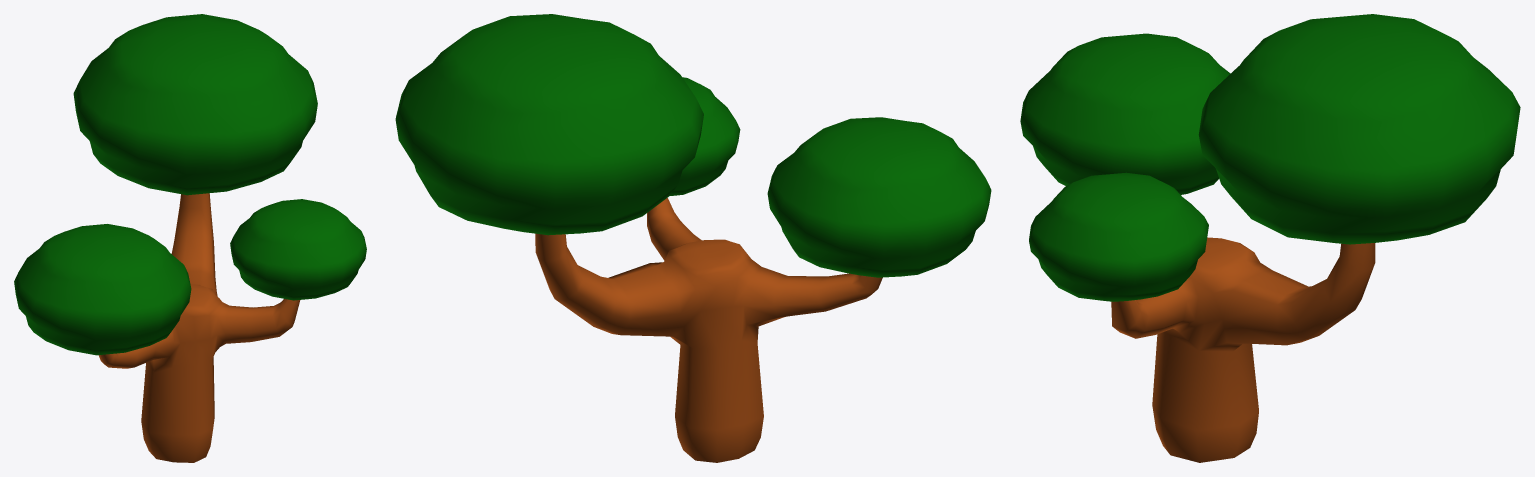
File: SM_Tree_P_1.fbx
3 views of the same model, side by side, from view 1: azimuth 30°, elevation 25°; view 2: azimuth 150°, elevation 25°; view 3: azimuth 270°, elevation 25° (orthographic). The views are drawn at different scales.
Parts seen in each view (by area): view 1: SM_Tree_P_1; view 2: SM_Tree_P_1; view 3: SM_Tree_P_1.
Part boxes in pixels (<box>): SM_Tree_P_1: <box>14,14,366,462</box>; SM_Tree_P_1: <box>395,14,991,462</box>; SM_Tree_P_1: <box>1020,14,1520,462</box>.
Size of the model in its own units: 652 by 602 by 599.
